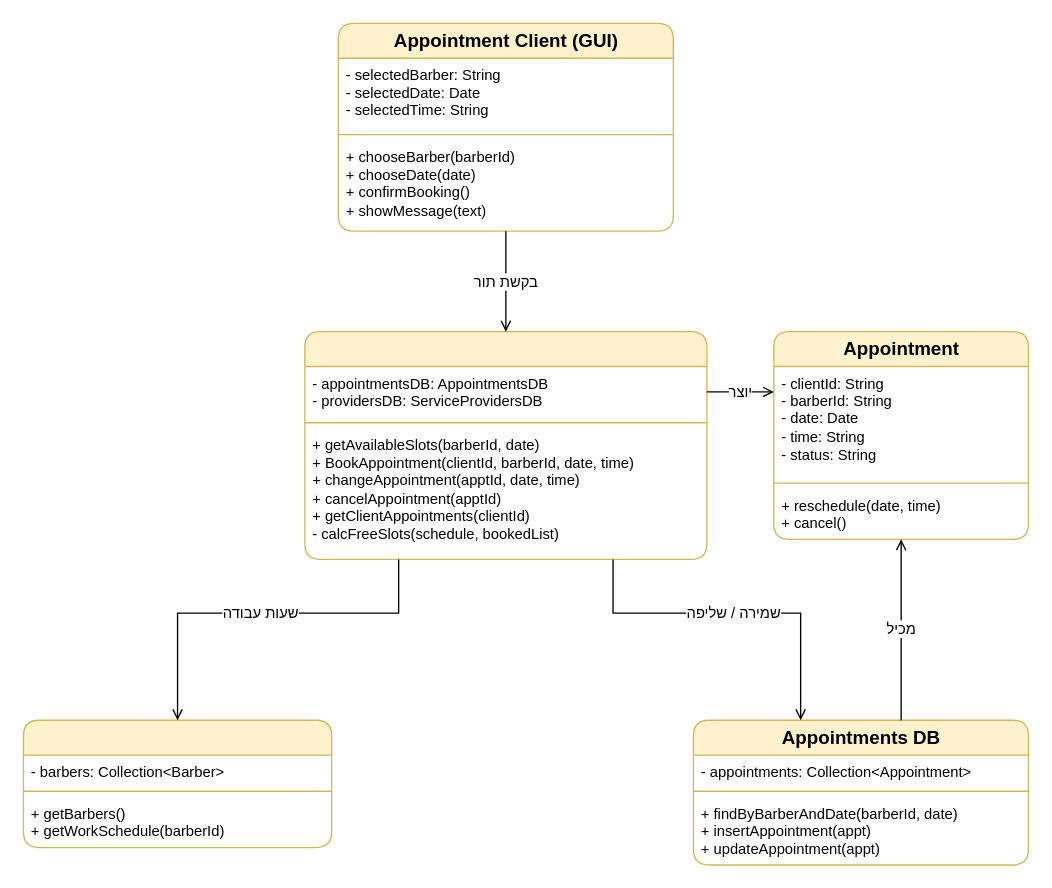
This 1052x888 diagram has some shape labels left out. The shapes that lost their labels are listed below. From the top down, each one's box as (x1, y1, x2, y2) in pixels, then its label:
(304, 330, 707, 559): Appointments Manager
(22, 719, 332, 848): Service Providers DB
